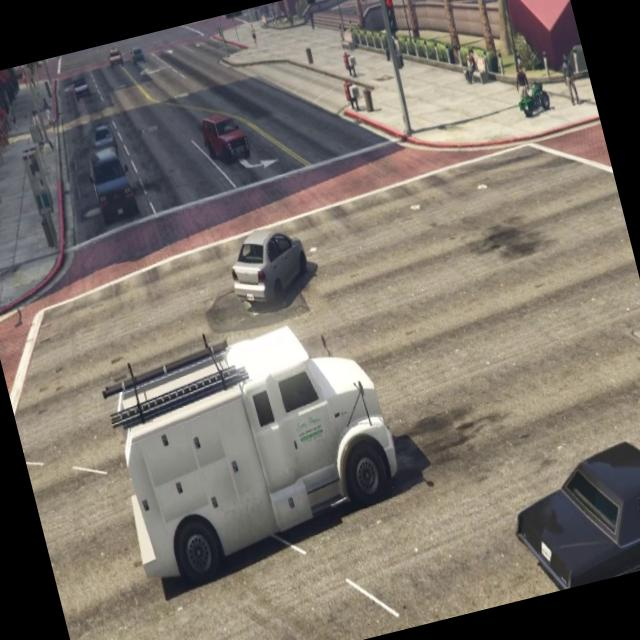Red-Signal: (372, 0, 414, 54), (295, 0, 330, 24)
